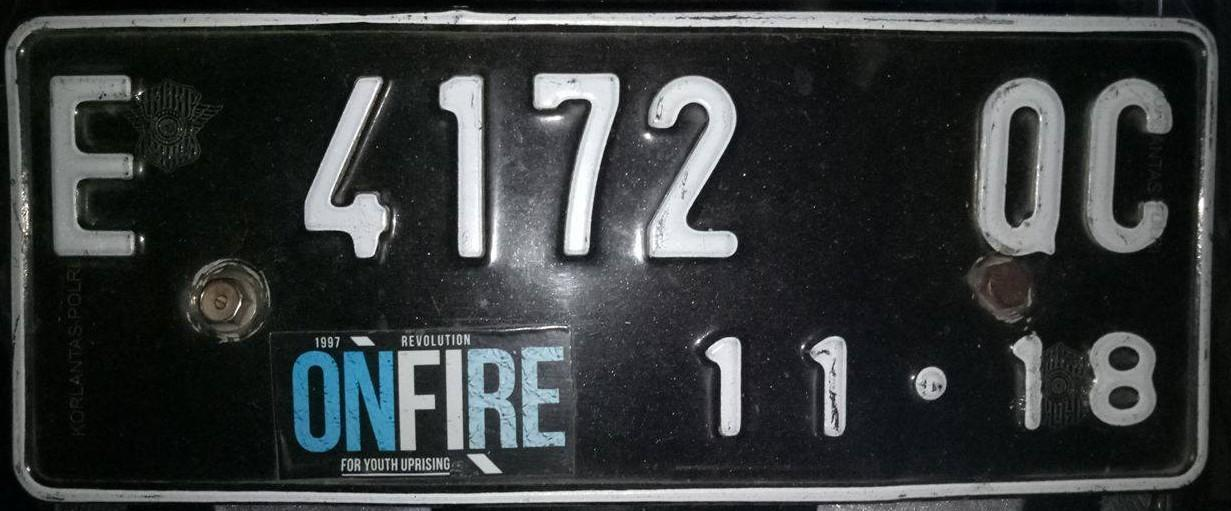clone-license-plate: (6, 13, 1212, 496)
